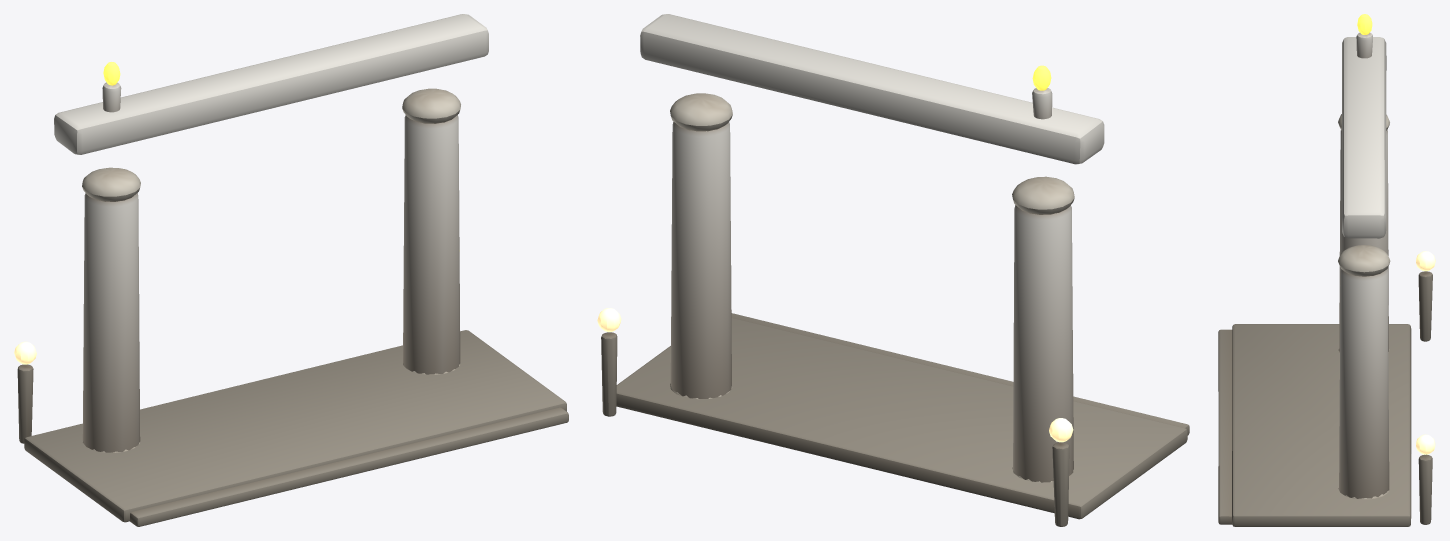
3 renders of one model, left to right at view 1: azimuth 30°, elevation 25°; view 2: azimuth 150°, elevation 25°; view 3: azimuth 270°, elevation 25°, orthographic. The views are drawn at different scales.
Visible parts, largest first — view 1: gate_592712f3; view 2: gate_592712f3; view 3: gate_592712f3.
Boxes of the visible parts, <box> form: gate_592712f3: <box>14,14,568,526</box>; gate_592712f3: <box>597,14,1189,526</box>; gate_592712f3: <box>1218,14,1435,526</box>.
Bounding box in the file's own units: 5.35 × 4.52 × 2.55.
